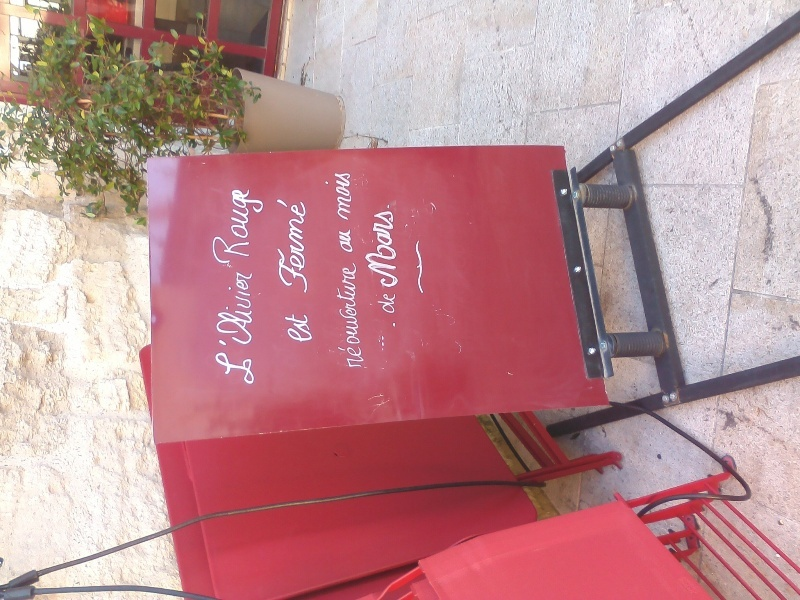text: (225, 270, 240, 389), (241, 270, 255, 389), (337, 261, 352, 370), (289, 196, 304, 299), (353, 261, 366, 370), (276, 196, 288, 299), (369, 209, 384, 291), (225, 188, 240, 266), (241, 188, 256, 266), (385, 209, 399, 291), (213, 188, 224, 266), (337, 167, 352, 223), (257, 188, 267, 266), (323, 167, 336, 223), (331, 261, 336, 370), (289, 310, 304, 344), (305, 196, 309, 299), (363, 209, 368, 291), (338, 228, 352, 255), (385, 291, 399, 315), (305, 310, 314, 344), (376, 291, 384, 315), (283, 310, 288, 344), (353, 167, 356, 223), (353, 228, 354, 255)
